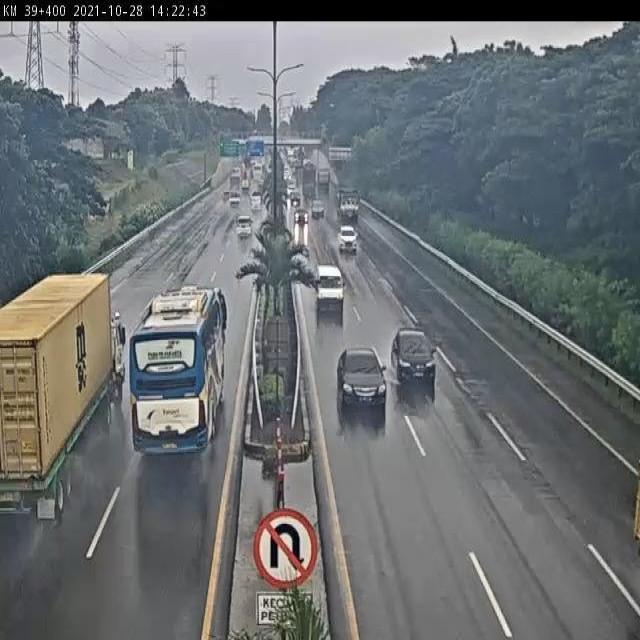bus-l-: (129, 282, 230, 454)
truck-xl-: (2, 275, 127, 520)
